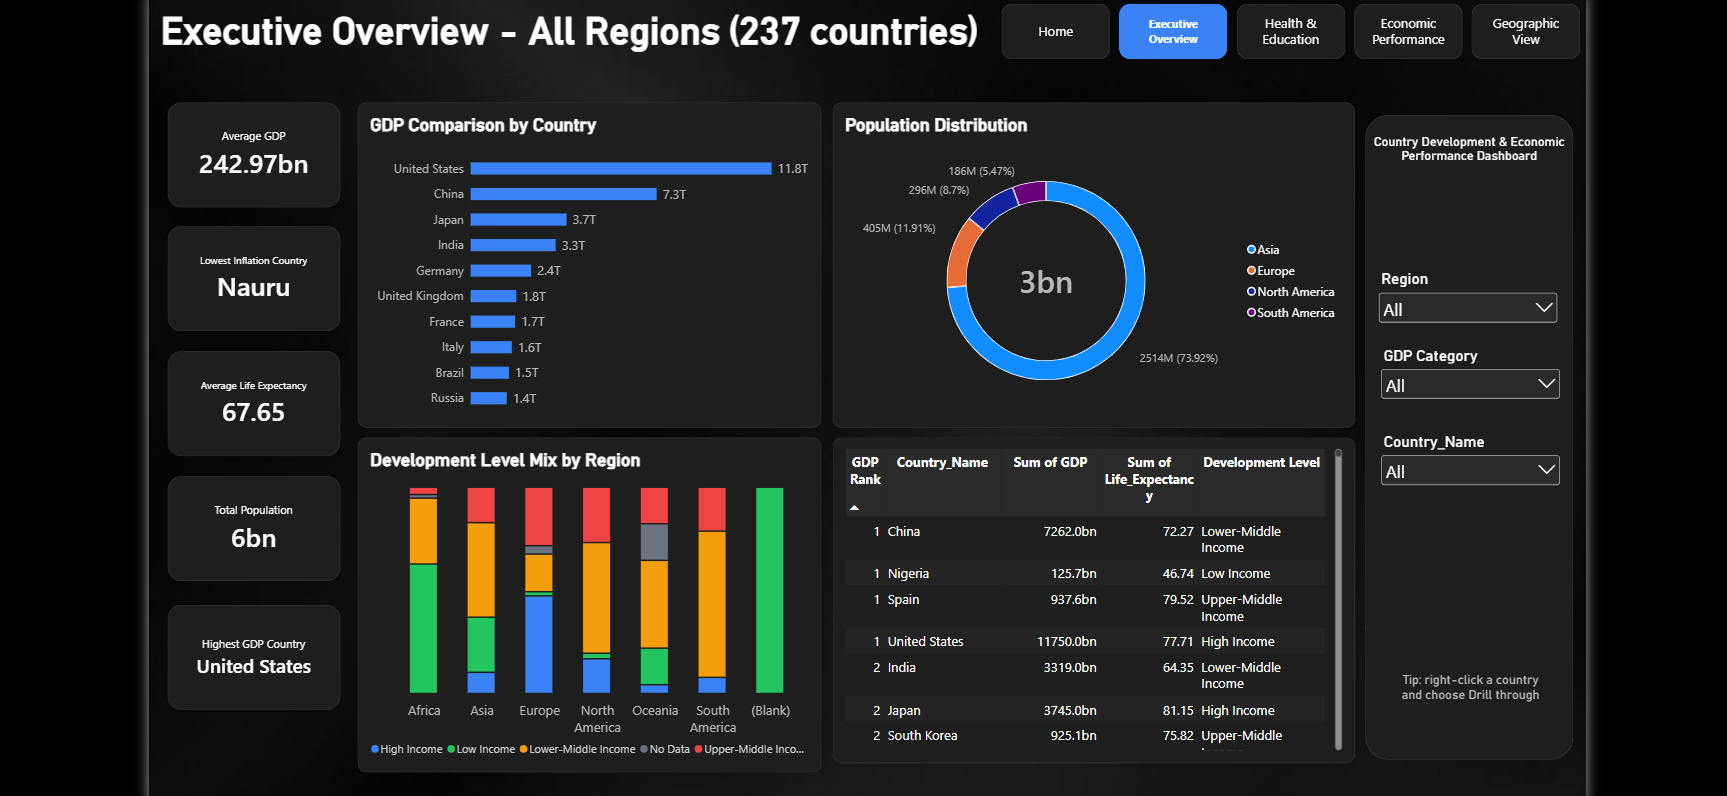

The page's visual inventory and layout, read from the dashboard file:
{"tool":"powerbi","page":{"name":"Executive Overview","canvas":[1920,1080],"ordinal":1},"visuals":[{"type":"pageNavigator","box":[1139.2,11.2,775.6,74.6],"z":0},{"type":"shape","box":[1623.9,160.3,277.8,861.4],"z":1000},{"type":"slicer","fields":{"Values":["Country Data Comparison.Country_Name"]},"box":[1640.7,585.1,248,72.7],"z":2000},{"type":"slicer","fields":{"Values":["Dim_Region.Region"]},"box":[1638.8,366.9,248,70.8],"z":3000},{"type":"slicer","fields":{"Values":["Country Data Comparison.GDP Category"]},"box":[1640.7,469.5,247.9,72.4],"z":4000},{"type":"cardVisual","fields":{"Data":["AllMeasures.Executive Overview Title"]},"box":[0,0,1139.2,95.1],"z":5000},{"type":"textbox","box":[1661.2,904.3,208,48],"z":6000},{"type":"cardVisual","fields":{"Data":["AllMeasures.Average GDP"]},"box":[25,143.6,230,140],"z":7000},{"type":"cardVisual","fields":{"Data":["AllMeasures.Lowest Inflation Country"]},"box":[25,309.5,230,140],"z":8000},{"type":"cardVisual","fields":{"Data":["AllMeasures.Average Life Expectancy"]},"box":[25,475.4,230,140],"z":9000},{"type":"cardVisual","fields":{"Data":["AllMeasures.Highest GDP Country"]},"box":[25,814.8,230,140],"z":10000},{"type":"cardVisual","fields":{"Data":["AllMeasures.Total Population"]},"box":[25,643.2,230,140],"z":11000},{"type":"clusteredBarChart","title":"GDP Comparison by Country","fields":{"Category":["Country Data Comparison.Country_Name"],"Y":["Sum(Country Data Comparison.GDP)"]},"box":[279.7,143.6,619,434.4],"z":12000},{"type":"donutChart","title":"Population Distribution","fields":{"Category":["Dim_Region.Region"],"Y":["AllMeasures.Total Population"]},"box":[913.6,143.6,697.3,434.4],"z":13000},{"type":"hundredPercentStackedColumnChart","title":"Development Level Mix by Region","fields":{"Category":["Dim_Region.Region"],"Series":["Country Data Comparison.Development Level"],"Y":["AllMeasures.Countries Count"]},"box":[279.7,591,619,447.5],"z":14000},{"type":"tableEx","title":"GDP Comparison by Country","fields":{"Values":["AllMeasures.GDP Rank","Country Data Comparison.Country_Name","Sum(Country Data Comparison.GDP)","Sum(Country Data Comparison.Life_Expectancy)","Country Data Comparison.Development Level"]},"box":[913.6,591,697.3,434.4],"z":15000},{"type":"textbox","box":[1623.9,184.6,277.8,59.7],"z":16000}]}

Visuals, with their boxes on the page's 1920x1080 design canvas (x1, y1, x2, y2). These are canvas units, not pixel positions in the 1727x796 screenshot, which may show the page scaled, cropped or inside an application window:
pageNavigator: (1139,11,1915,86)
shape: (1624,160,1902,1022)
slicer - Country Data Comparison.Country_Name: (1641,585,1889,658)
slicer - Dim_Region.Region: (1639,367,1887,438)
slicer - Country Data Comparison.GDP Category: (1641,470,1889,542)
cardVisual - AllMeasures.Executive Overview Title: (0,0,1139,95)
textbox: (1661,904,1869,952)
cardVisual - AllMeasures.Average GDP: (25,144,255,284)
cardVisual - AllMeasures.Lowest Inflation Country: (25,310,255,450)
cardVisual - AllMeasures.Average Life Expectancy: (25,475,255,615)
cardVisual - AllMeasures.Highest GDP Country: (25,815,255,955)
cardVisual - AllMeasures.Total Population: (25,643,255,783)
"GDP Comparison by Country" clusteredBarChart: (280,144,899,578)
"Population Distribution" donutChart: (914,144,1611,578)
"Development Level Mix by Region" hundredPercentStackedColumnChart: (280,591,899,1038)
"GDP Comparison by Country" tableEx: (914,591,1611,1025)
textbox: (1624,185,1902,244)
